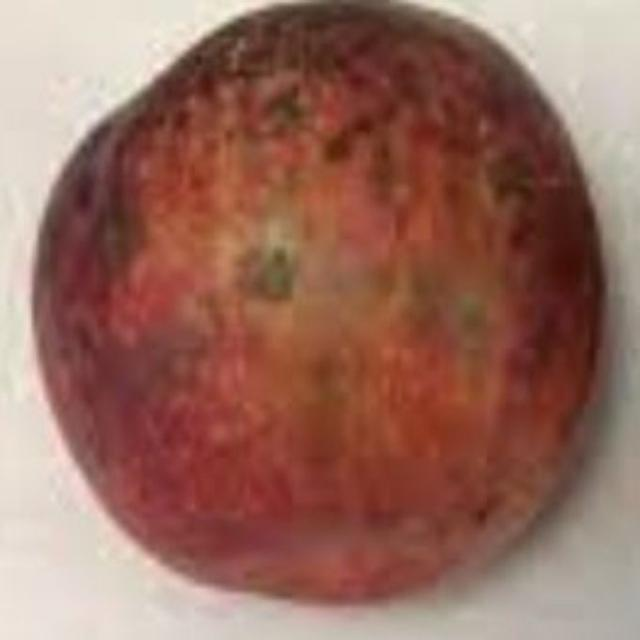Rotten Apple: (13, 11, 619, 608)
